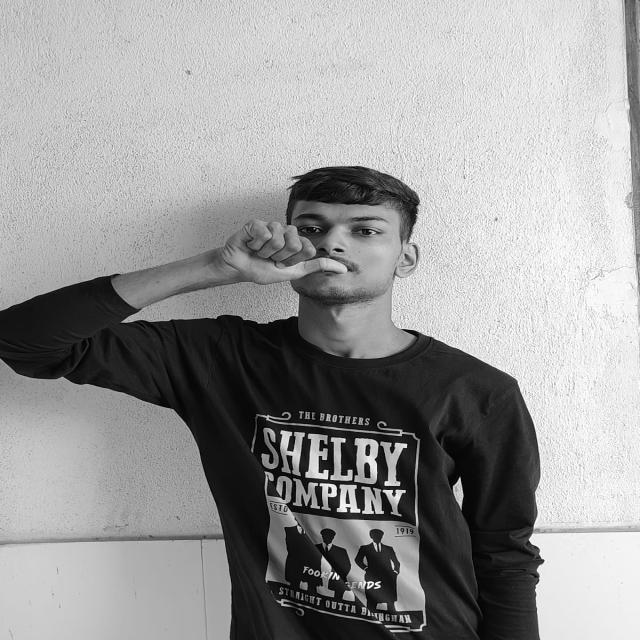Drink: (228, 216, 352, 286)
